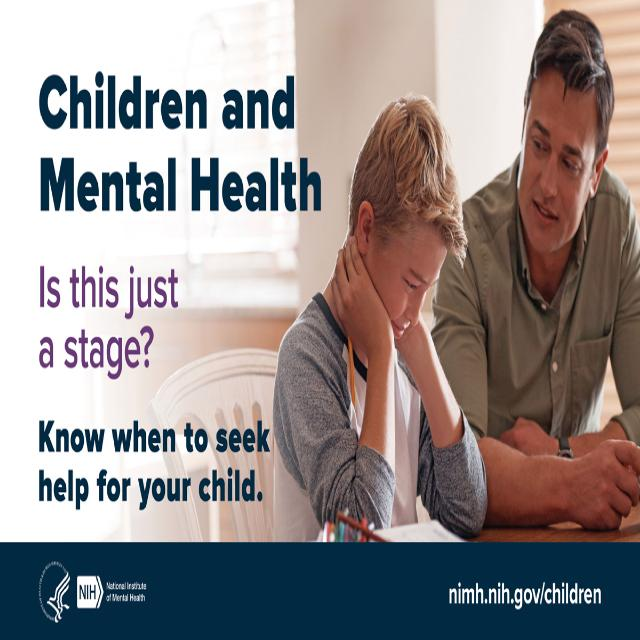adult: (430, 8, 640, 530)
child: (272, 94, 488, 541)
